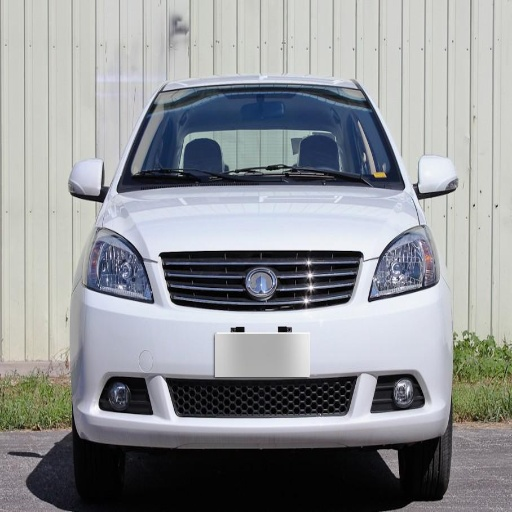front_bumper: (77, 252, 452, 436)
front_right_light: (83, 228, 153, 303)
hood: (103, 190, 416, 305)
left_mirror: (416, 155, 459, 198)
